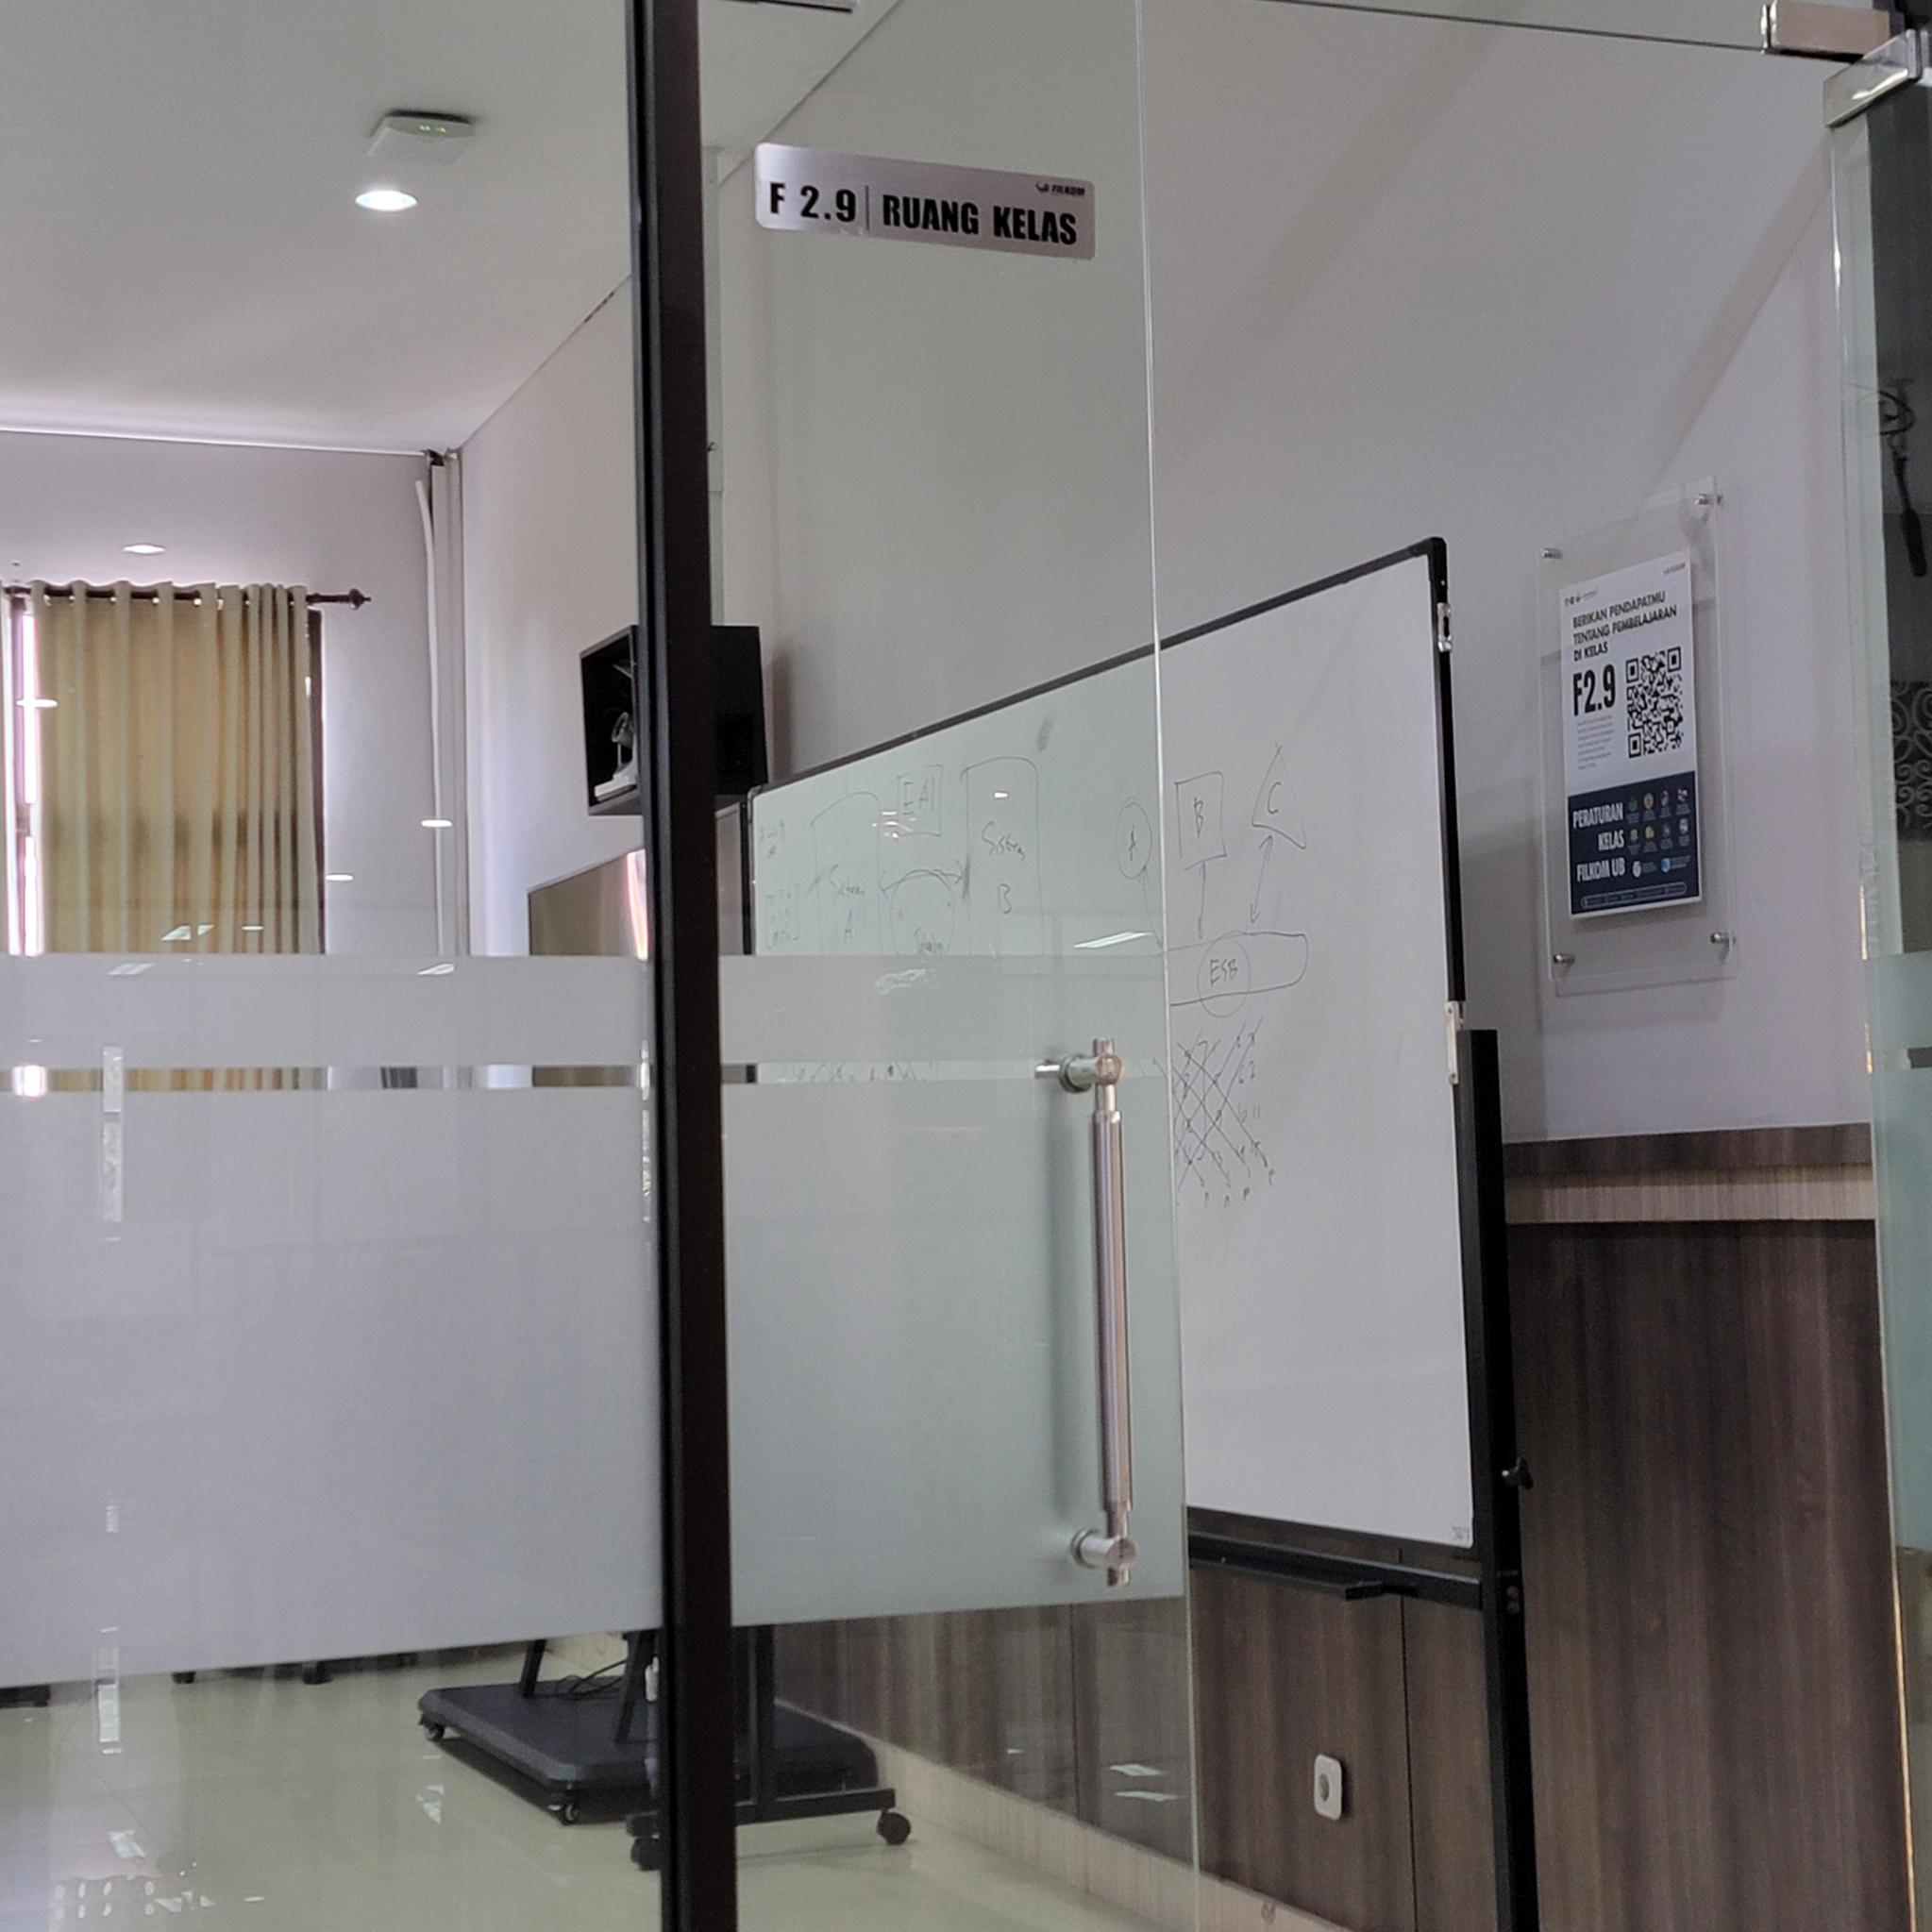plate: (752, 138, 1099, 265)
